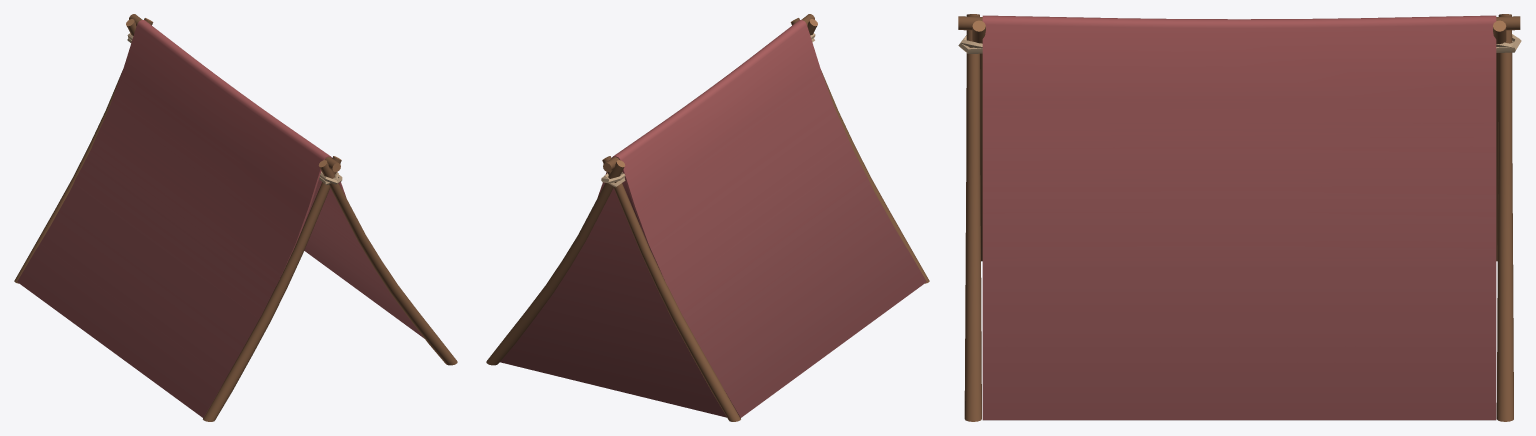
The model's file is Tent_01.fbx.
The picture shows the model from 3 angles, left to right: view 1: azimuth 30°, elevation 25°; view 2: azimuth 150°, elevation 25°; view 3: azimuth 270°, elevation 25°; orthographic projection. The views are drawn at different scales.
Parts seen in each view (by area): view 1: Tent_01_LOD0; view 2: Tent_01_LOD0; view 3: Tent_01_LOD0.
Boxes of the visible parts, x1,y1,x2,y2 form: Tent_01_LOD0: (14, 14, 457, 421); Tent_01_LOD0: (486, 14, 929, 421); Tent_01_LOD0: (958, 14, 1521, 421).
Size of what is drawn, in the model's own units: 0.7732 by 0.6871 by 1.09.
